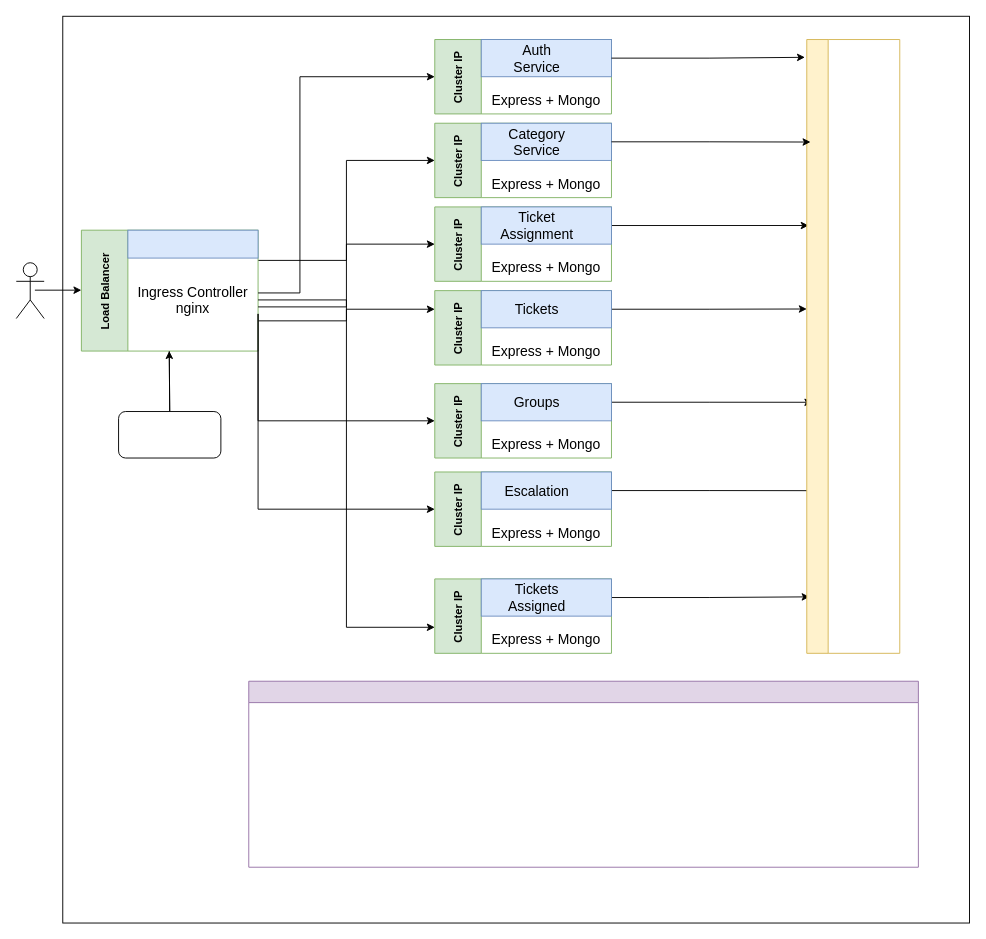
The diagram is 986 pixels wide and 939 high, and some of its shapes have lost their labels. Here are the shapes that lost their labels. From the top down, the box of each, then its label:
(127, 229, 258, 258): Deployment
(15, 262, 44, 319): Client
(806, 39, 900, 653): NATS Streaming Server
(118, 411, 221, 458): nginx config
(248, 680, 918, 867): Persistent Volume Claim
